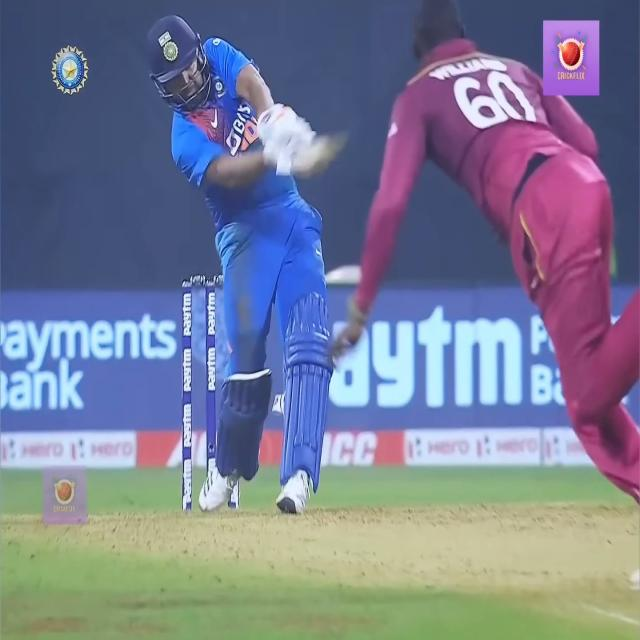partially_visible: (331, 287, 529, 435)
